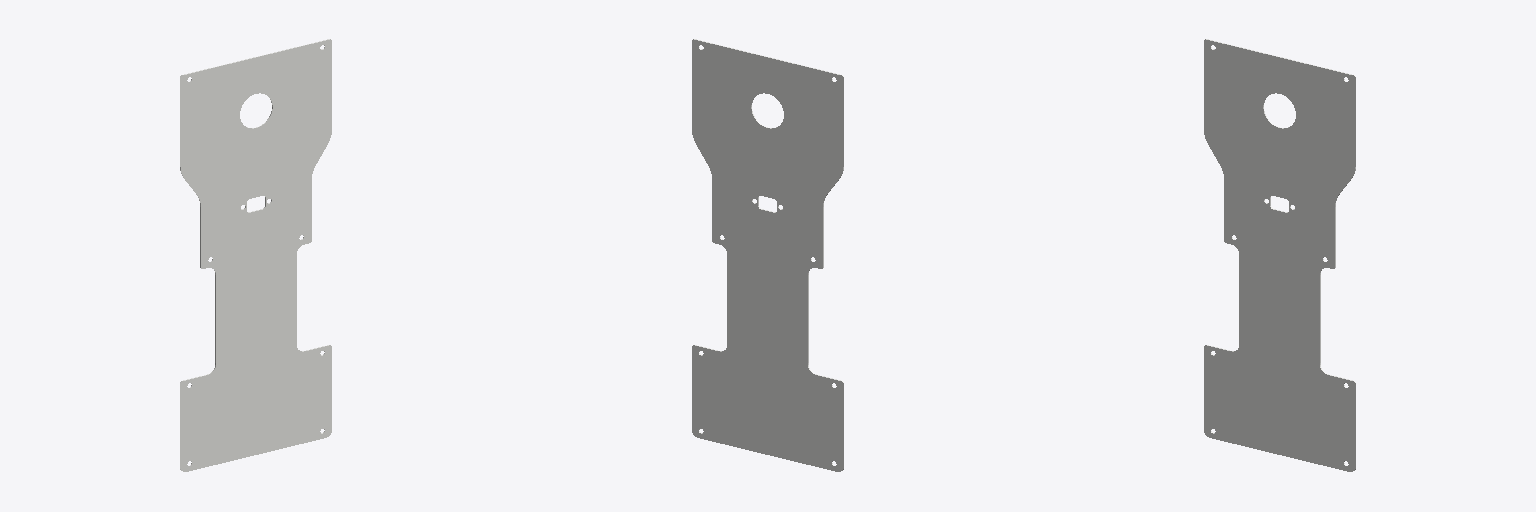
Rendered from chassis_top_org.obj.
3 views of the same model, side by side, from view 1: azimuth 30°, elevation 25°; view 2: azimuth 150°, elevation 25°; view 3: azimuth 330°, elevation 25° (orthographic).
Parts seen in each view (by area): view 1: Body1; view 2: Body1; view 3: Body1.
Boxes of the visible parts, x1,y1,x2,y2 form: Body1: [180, 39, 331, 471]; Body1: [692, 39, 843, 471]; Body1: [1204, 39, 1355, 471].
Bounding box in the file's own units: 0.104 × 0.26 × 0.0008.